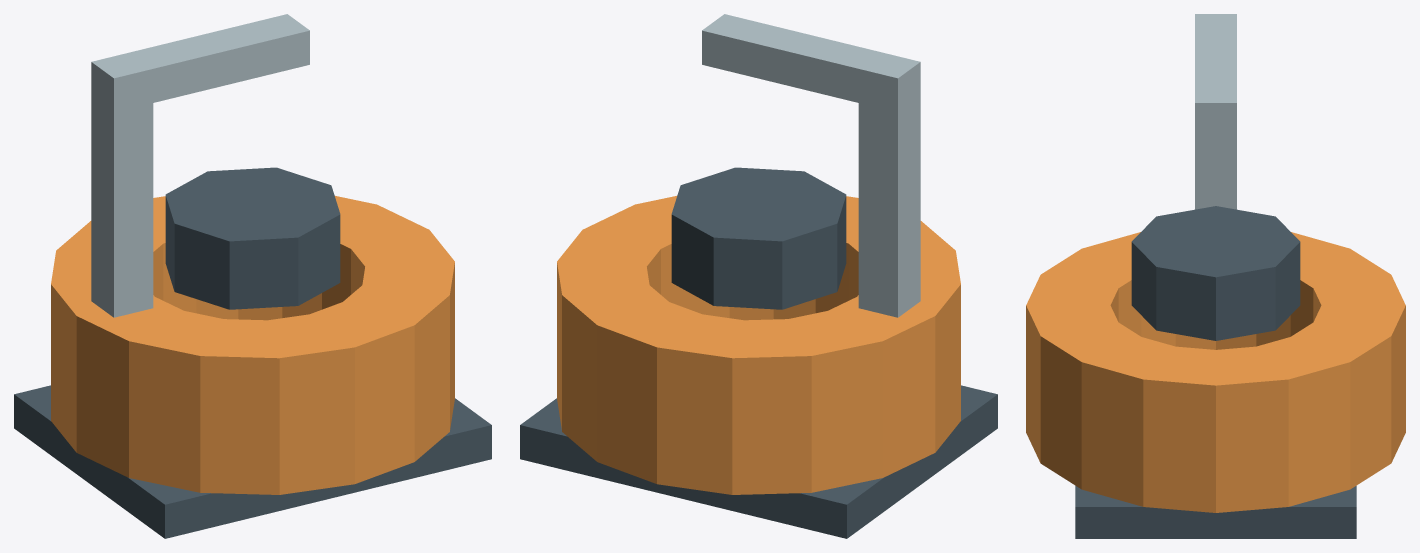
The model's file is retractable-cable-reel.glb.
The picture shows the model from 3 angles, left to right: view 1: azimuth 30°, elevation 25°; view 2: azimuth 150°, elevation 25°; view 3: azimuth 270°, elevation 25°; orthographic projection. The views are drawn at different scales.
Visible parts, largest first — view 1: orange, dark, steel; view 2: orange, dark, steel; view 3: orange, dark, steel.
Part boxes in pixels (<box>): orange: <box>51,196,454,494</box>; dark: <box>14,167,491,538</box>; steel: <box>91,14,309,317</box>; orange: <box>557,196,960,494</box>; dark: <box>520,167,997,538</box>; steel: <box>702,14,920,317</box>; orange: <box>1026,232,1405,512</box>; dark: <box>1075,206,1356,538</box>; steel: <box>1195,14,1236,209</box>.
Size of the model in its own units: 0.54 by 0.6 by 0.54.
